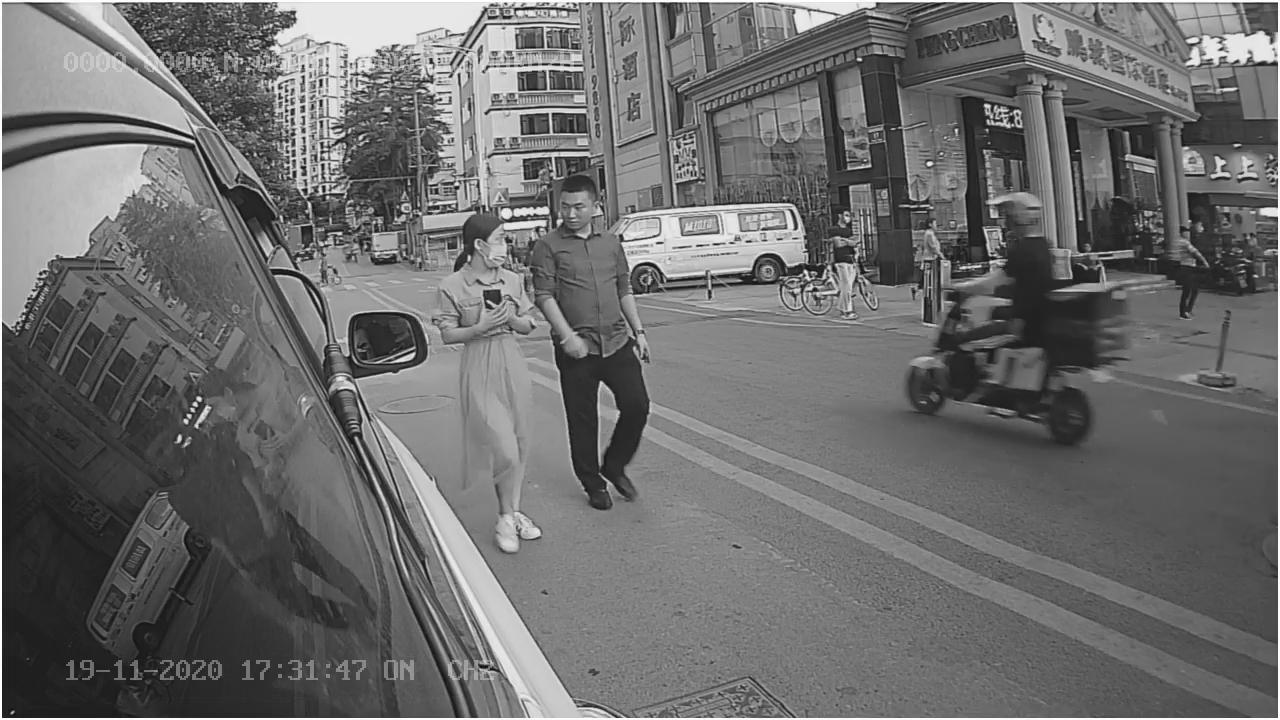person: (539, 179, 689, 502)
